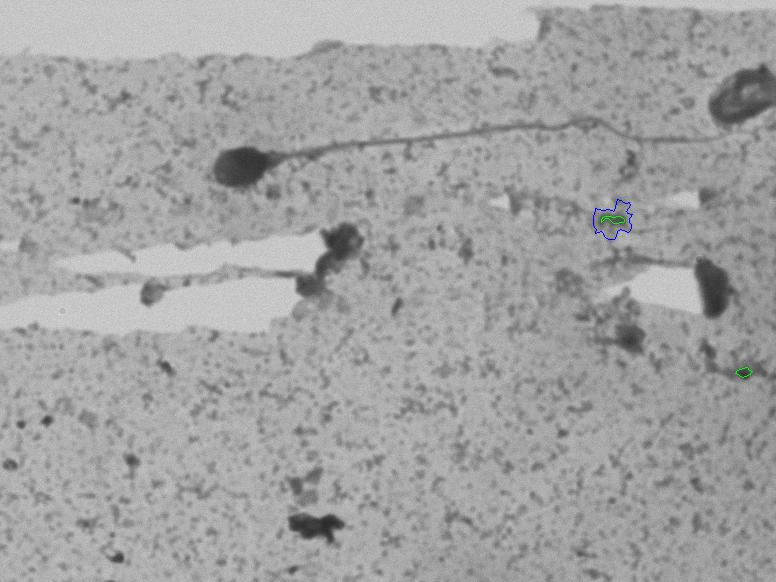Normal: (204, 61, 716, 213)
